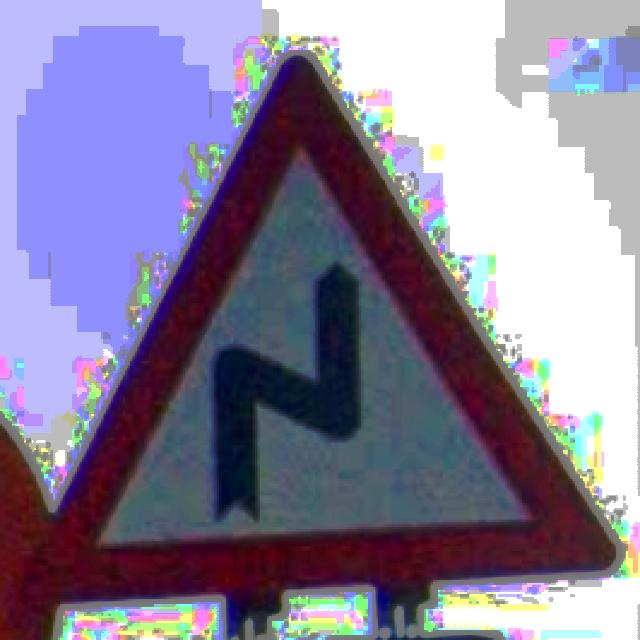doublebendright: (29, 53, 616, 599)
